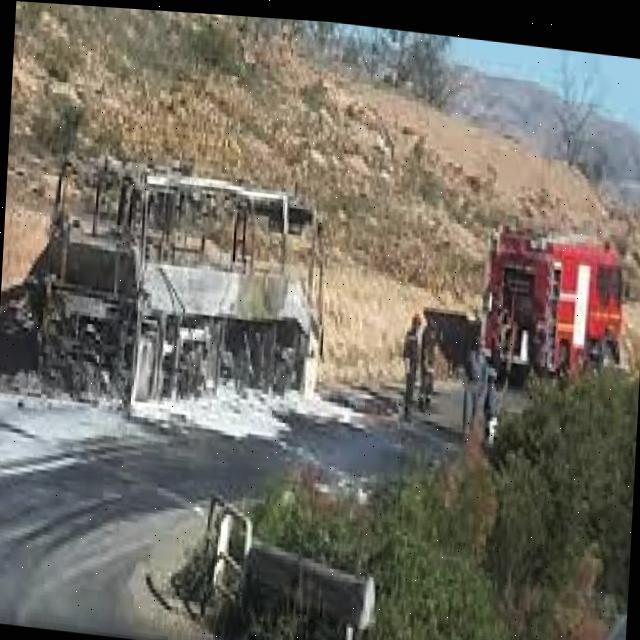emergency: (478, 204, 633, 406)
